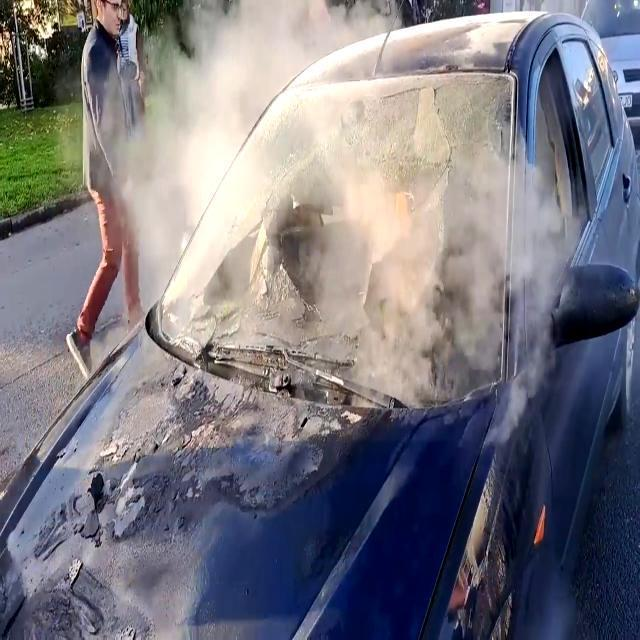Smoke: (121, 0, 574, 389)
